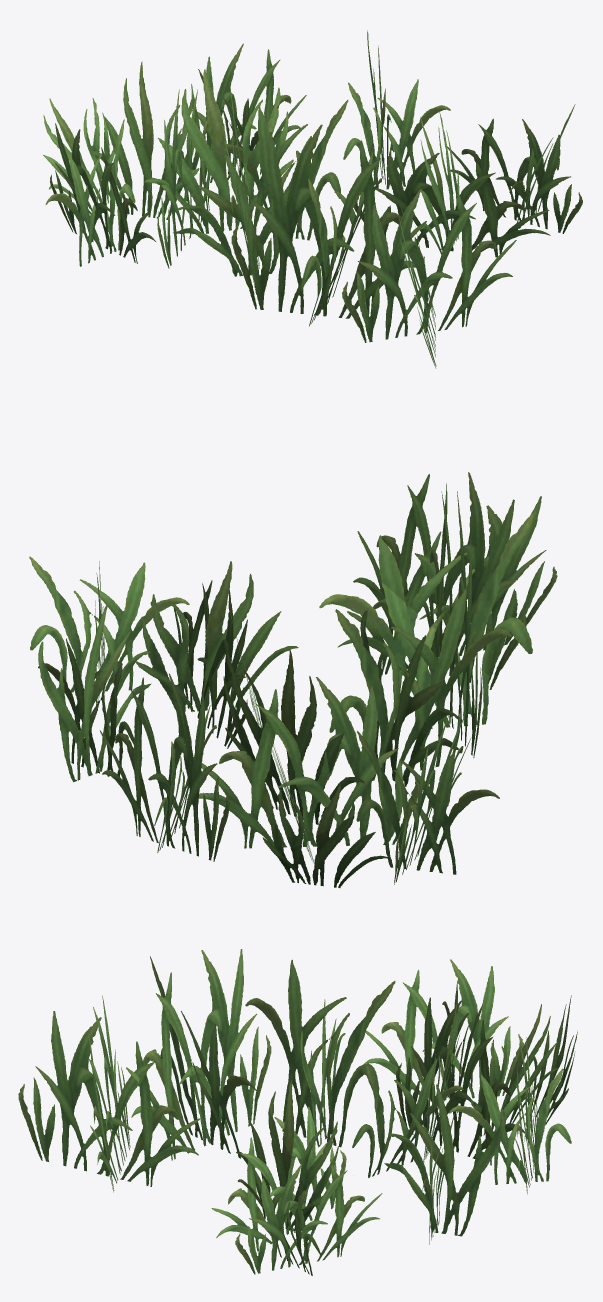
The model's file is Plant_zhiwu_tongyong_16.FBX.
3 views of the same model, one above another, from view 1: azimuth 30°, elevation 25°; view 2: azimuth 150°, elevation 25°; view 3: azimuth 270°, elevation 25° (orthographic). The views are drawn at different scales.
Parts seen in each view (by area): view 1: Plant_zhiwu_tongyong_16; view 2: Plant_zhiwu_tongyong_16; view 3: Plant_zhiwu_tongyong_16.
Part boxes in pixels (x1=…): Plant_zhiwu_tongyong_16: x1=43, y1=30, x2=582, y2=368; Plant_zhiwu_tongyong_16: x1=29, y1=472, x2=557, y2=887; Plant_zhiwu_tongyong_16: x1=18, y1=949, x2=577, y2=1275.
Size of the model in its own units: 320 by 147 by 338.
